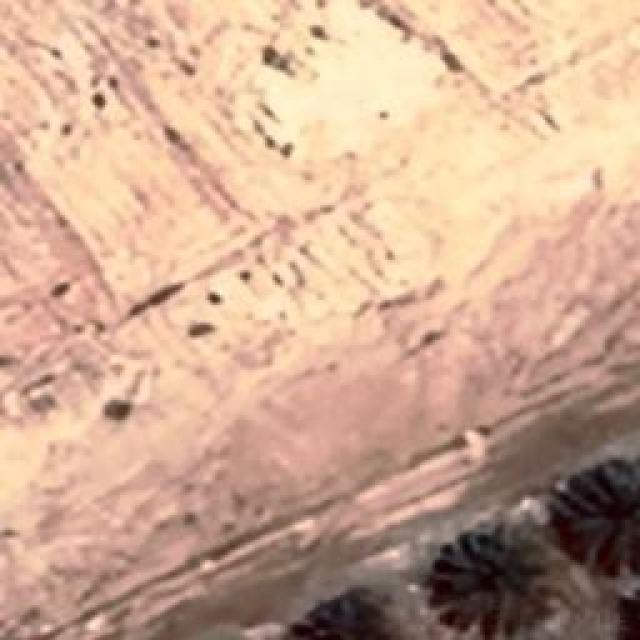PalmTree: (435, 515, 555, 620), (281, 583, 410, 640), (568, 455, 638, 560)
